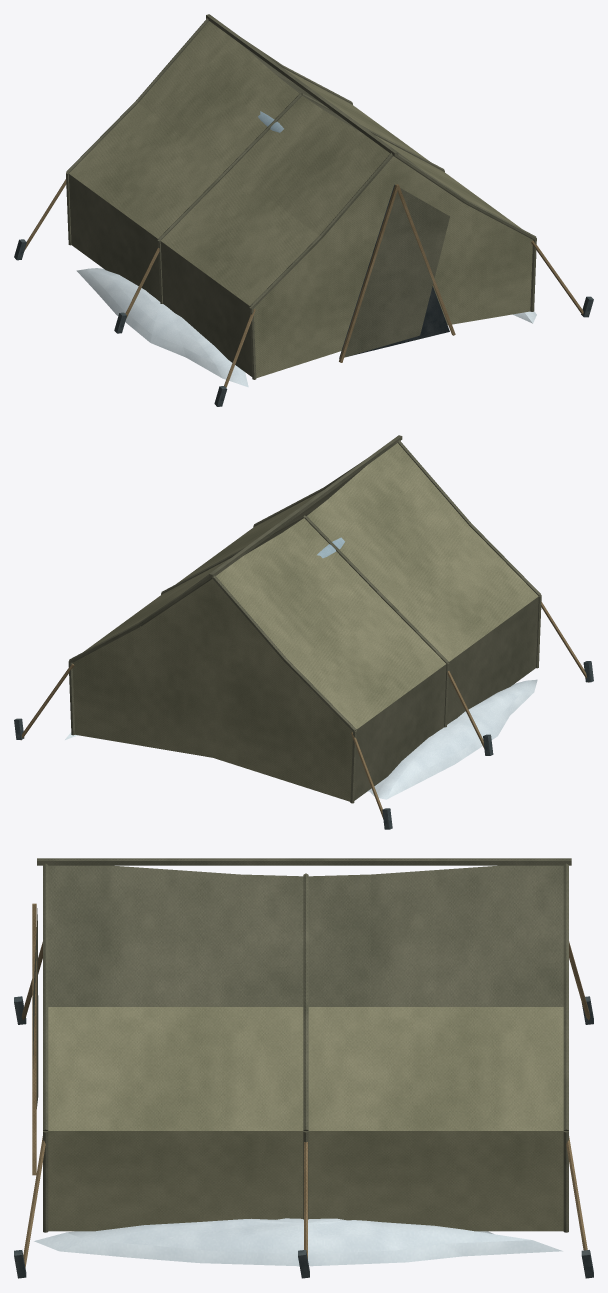
Rendered from 02_Canvas_Expedition_Tent.obj.
3 views of the same model, one above another, from view 1: azimuth 30°, elevation 25°; view 2: azimuth 150°, elevation 25°; view 3: azimuth 270°, elevation 25° (orthographic). The views are drawn at different scales.
Visible parts, largest first — view 1: 02_Canvas_Expedition_Tent; view 2: 02_Canvas_Expedition_Tent; view 3: 02_Canvas_Expedition_Tent.
Part boxes in pixels (box(x1,y1,x2,y2)): 02_Canvas_Expedition_Tent: box(14, 14, 593, 406); 02_Canvas_Expedition_Tent: box(14, 435, 593, 829); 02_Canvas_Expedition_Tent: box(14, 858, 593, 1278).
Size of the model in its own units: 3.52 by 1.86 by 3.32.
7 materials, 7 textured.
